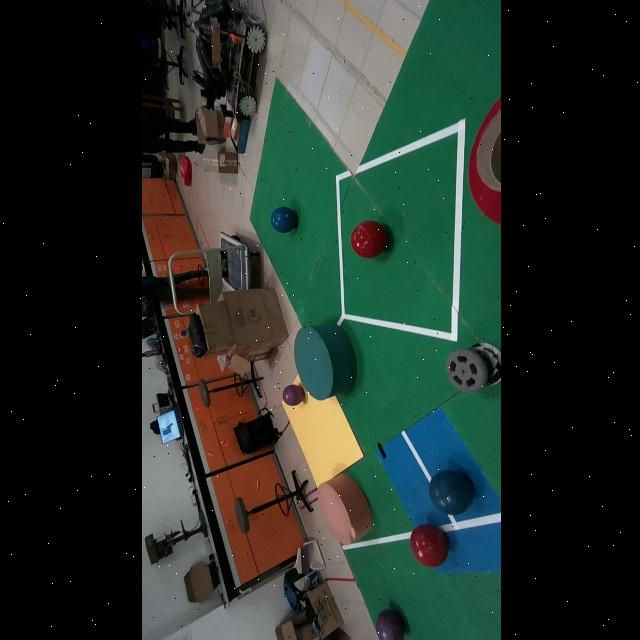B: (428, 470, 473, 516), (269, 207, 296, 233)
P: (374, 609, 404, 640), (281, 385, 303, 407)
R: (408, 526, 448, 567), (348, 220, 387, 259)
